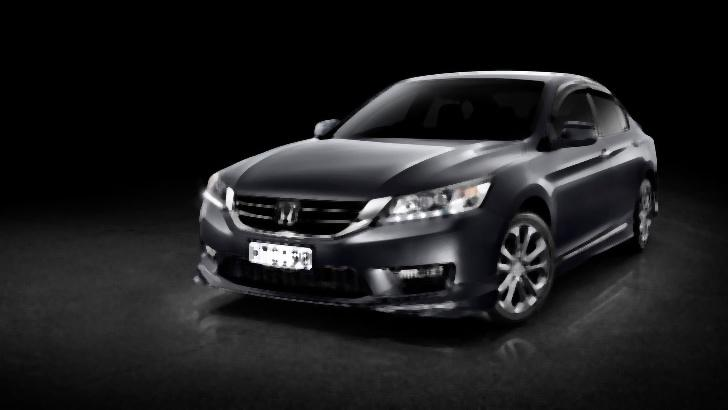Car hood: (215, 136, 538, 206)
Fender - -R-L-: (487, 148, 558, 244)
Front bumper: (192, 198, 502, 327)
Headlight - -L-: (374, 184, 489, 229)
Headlight - -R-: (200, 172, 228, 209)
Passenger-s door - -F-L-: (541, 69, 608, 272)
Passenger-s door - -R-L-: (573, 73, 642, 259)
Side bumper - -L-: (546, 215, 643, 298)
Side mirror - -L-: (543, 119, 600, 152)
Side mirror - -R-: (311, 118, 339, 141)
